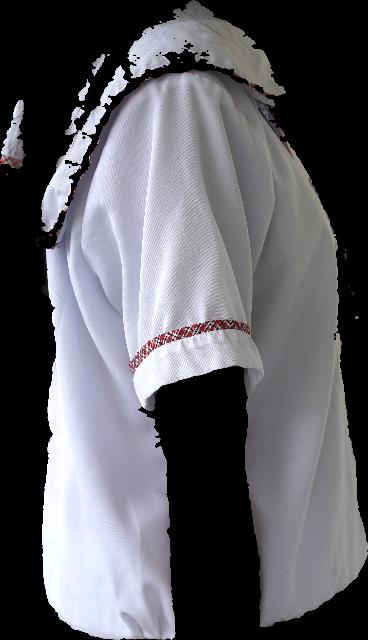pologirl: (40, 0, 367, 639)
